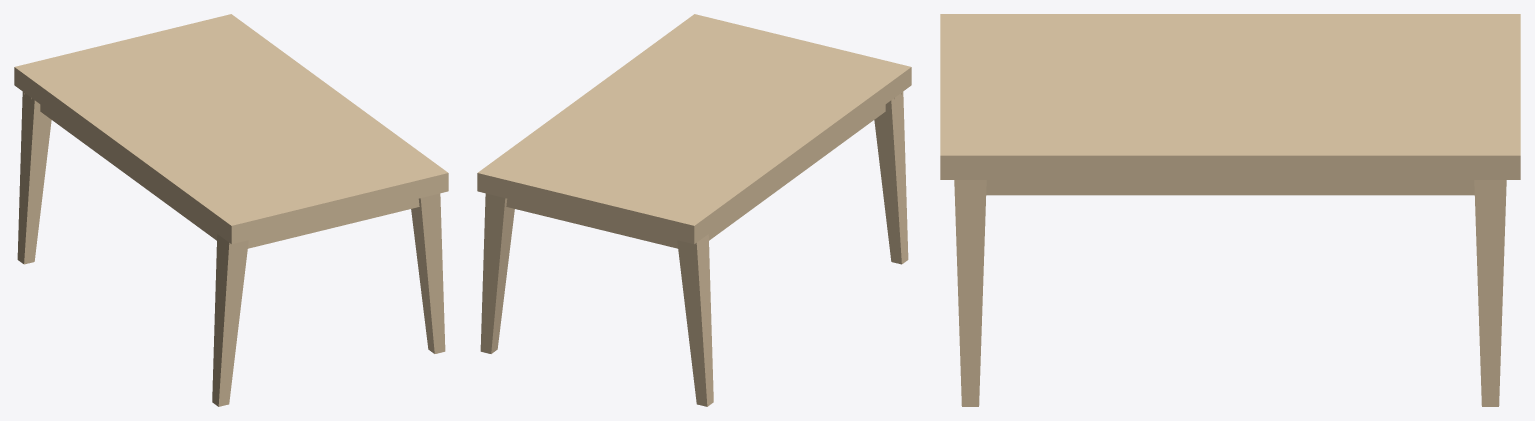
Rendered from KitchenTable_01.fbx.
The picture shows the model from 3 angles, left to right: view 1: azimuth 30°, elevation 25°; view 2: azimuth 150°, elevation 25°; view 3: azimuth 270°, elevation 25°; orthographic projection. The views are drawn at different scales.
Visible parts, largest first — view 1: KitchenTable_01; view 2: KitchenTable_01; view 3: KitchenTable_01.
Boxes of the visible parts, x1,y1,x2,y2 form: KitchenTable_01: [14, 14, 448, 406]; KitchenTable_01: [477, 14, 911, 406]; KitchenTable_01: [940, 14, 1520, 406].
Bounding box in the file's own units: 1.12 × 0.8792 × 1.86.
